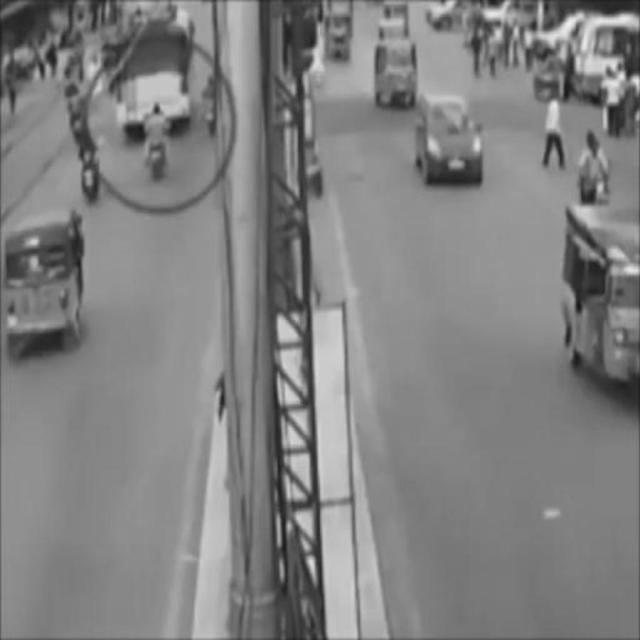person: (543, 90, 565, 168)
vehicle: (560, 201, 640, 391), (6, 210, 87, 342), (417, 92, 483, 184), (377, 43, 415, 109), (578, 133, 608, 209), (141, 102, 169, 178), (77, 127, 99, 203)
